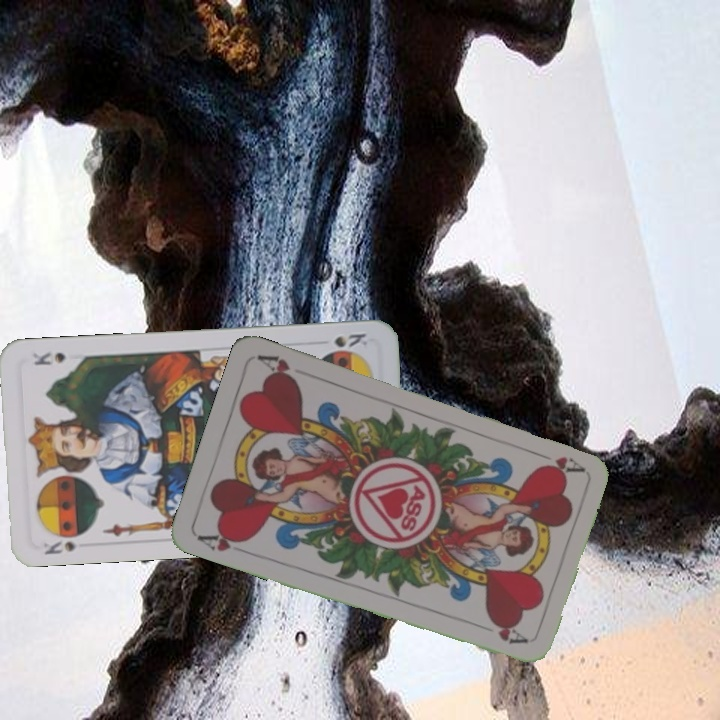HA: (528, 447, 586, 476), (193, 526, 251, 554)
SK: (330, 329, 370, 350), (40, 537, 78, 558)
